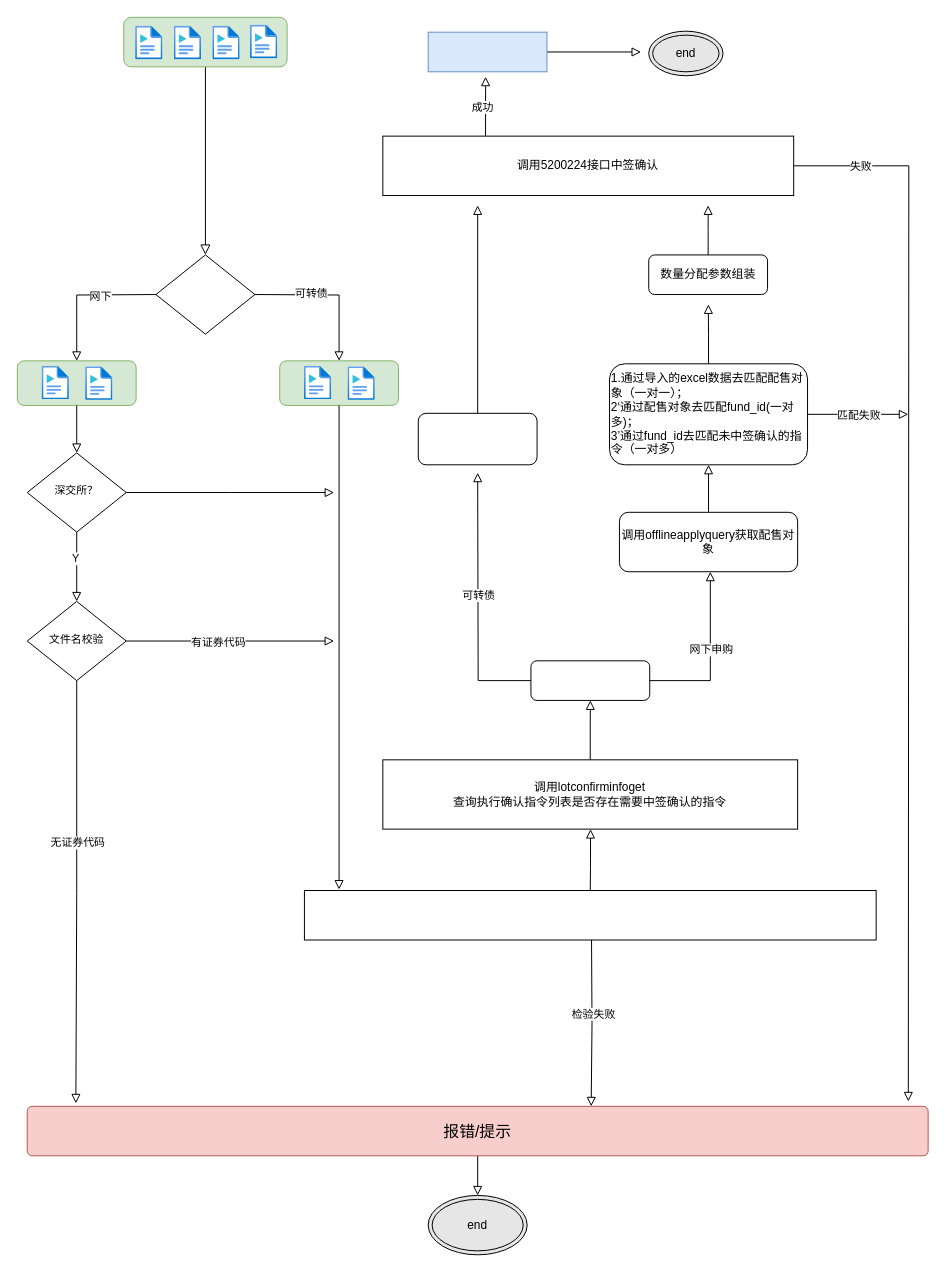
Image size: 945x1272. Some labels were removed from this diagram. The shapes that lost their labels are listed below. From the top down, each one's box as (x1, y1, x2, y2) in pixels, then its label:
(427, 31, 547, 72): 执行结果反馈
(155, 254, 255, 334): 网下or可转债
(417, 412, 537, 465): 根据证券代码和股东匹配指令并组装入参
(530, 660, 650, 700): 得到待中签确认指令列表
(303, 890, 876, 940): 字段校验
